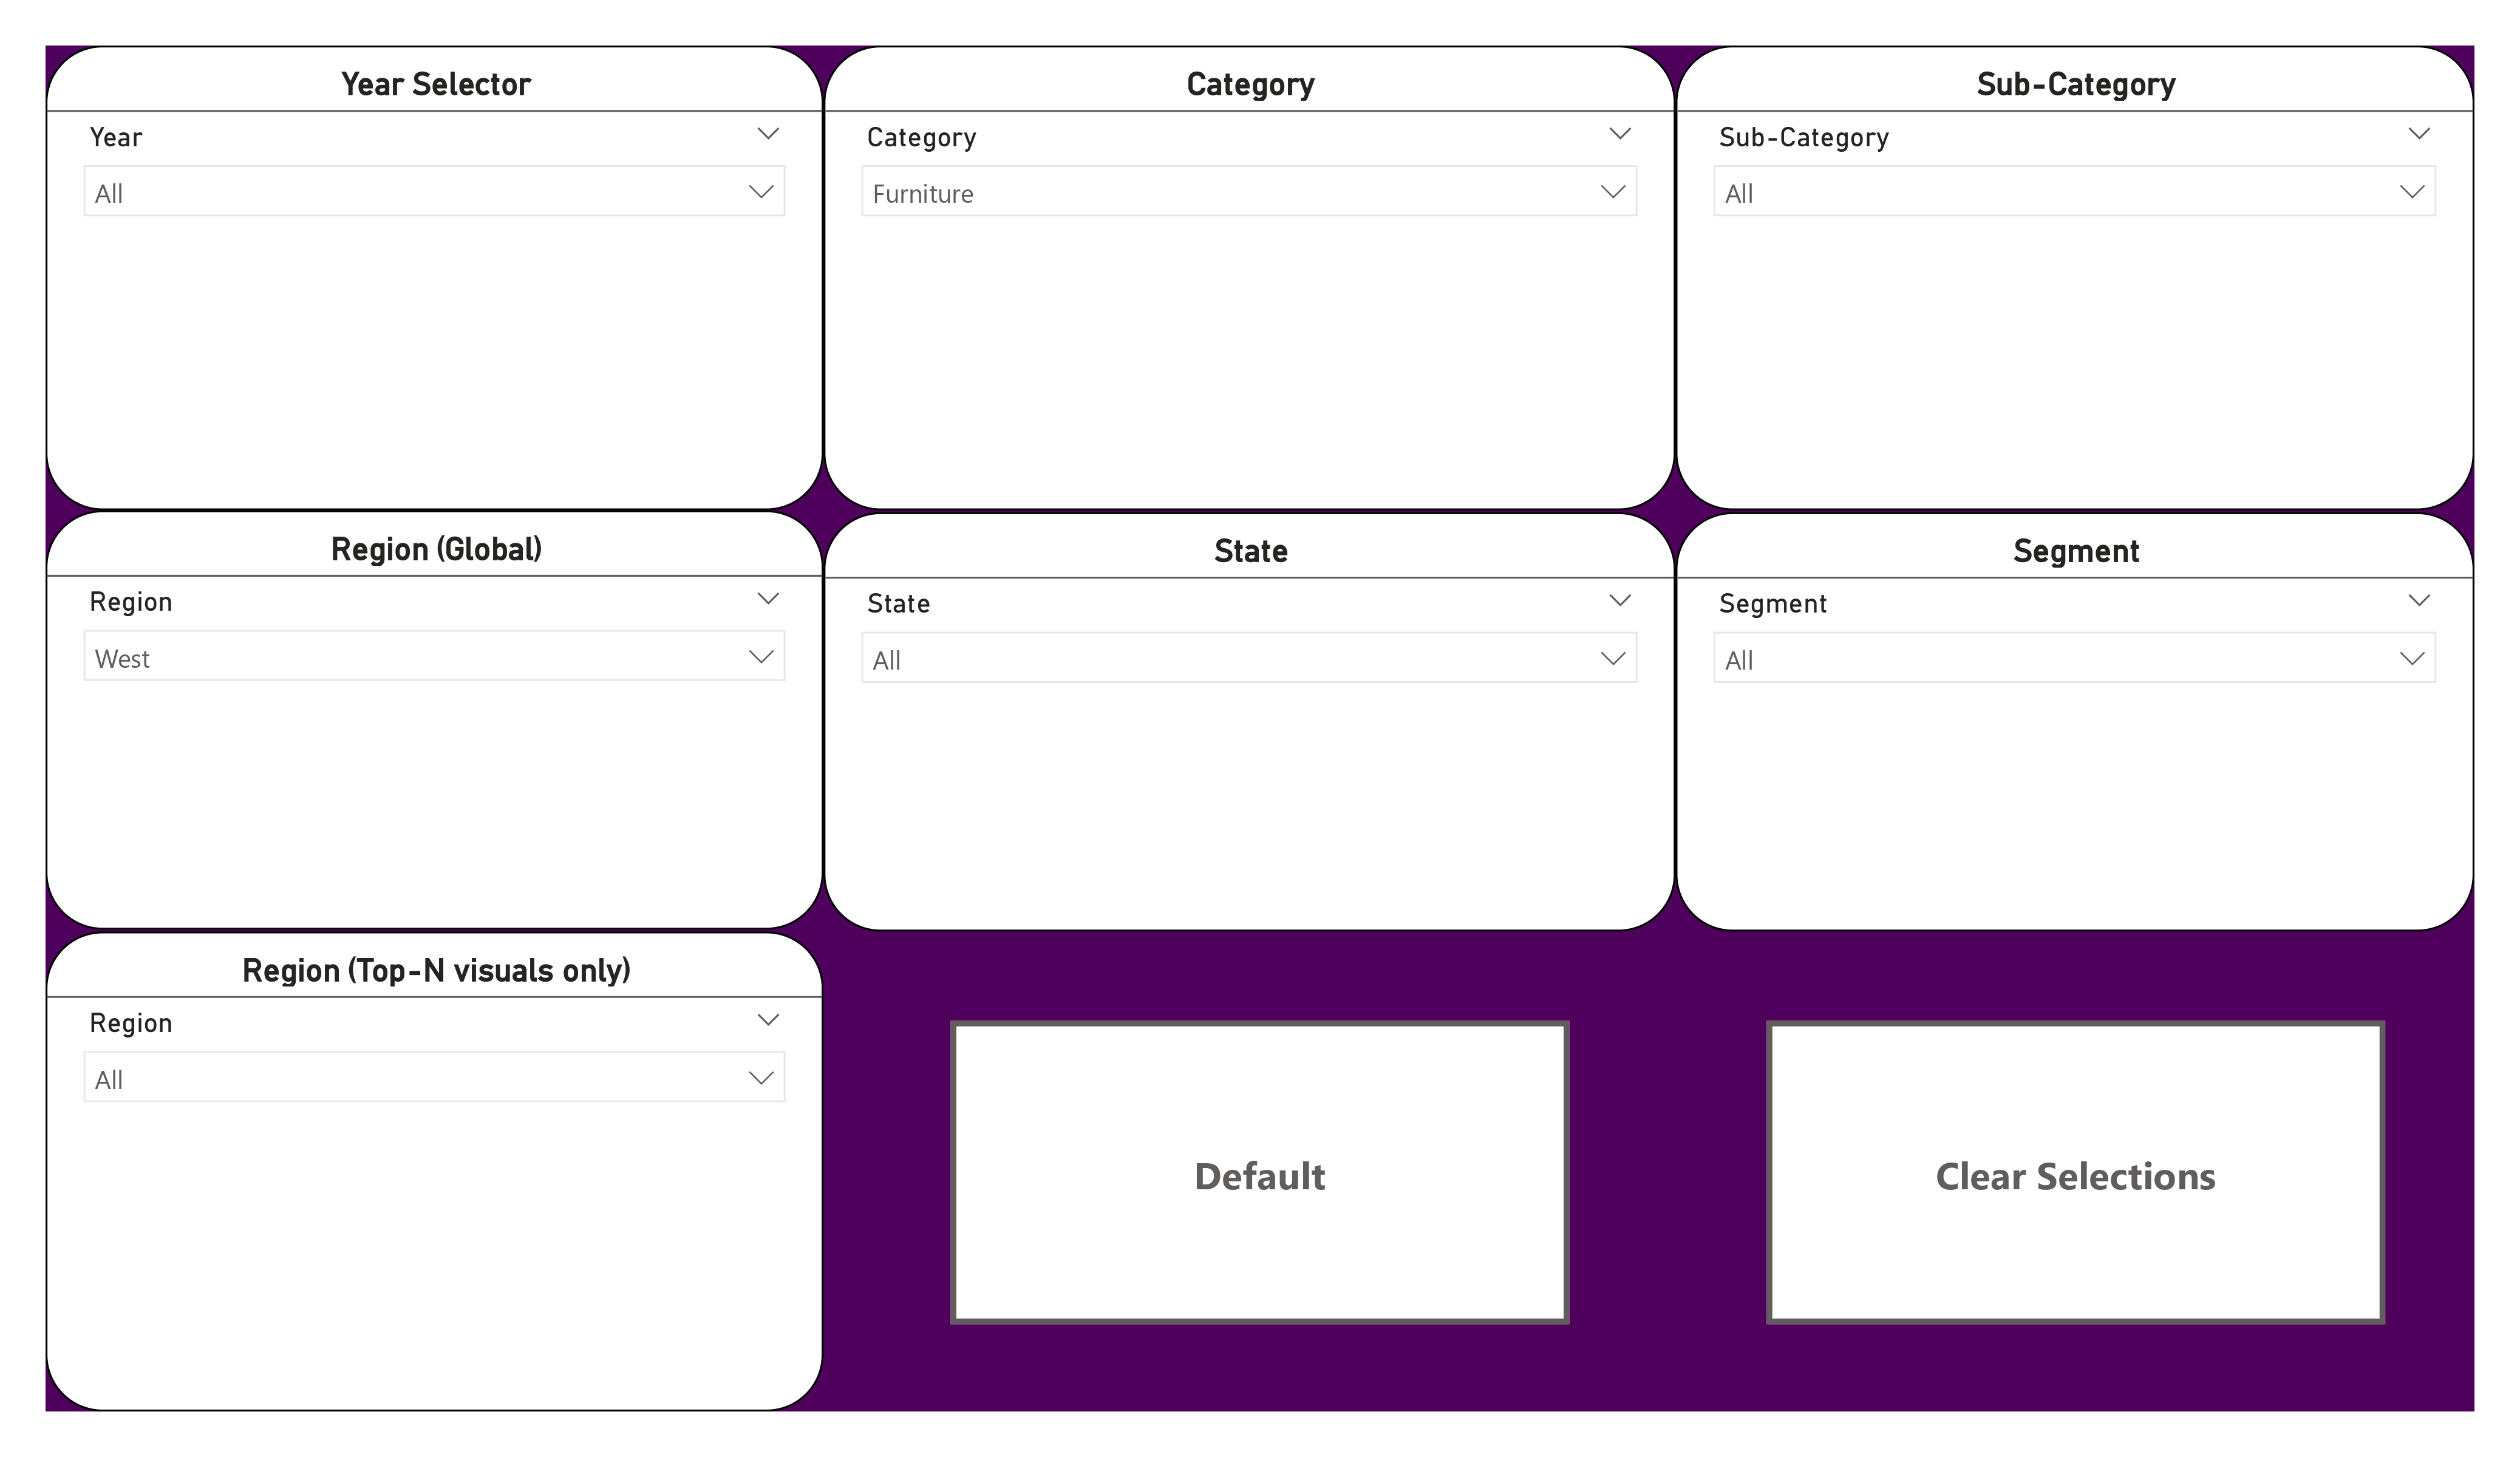

The page's visual inventory and layout, read from the dashboard file:
{"tool":"powerbi","page":{"name":"Slicers","canvas":[1280,720],"ordinal":11},"visuals":[{"type":"slicer","title":"Year Selector","fields":{"Values":["Date1.Year"]},"box":[0,0,410,245],"z":0},{"type":"slicer","title":"Category","fields":{"Values":["Append1.Category"]},"box":[410,0,448.8,245],"z":1000},{"type":"slicer","title":"Sub-Category","fields":{"Values":["Append1.Sub-Category"]},"box":[858.8,0,421.2,245],"z":2000},{"type":"slicer","title":"Region (Global)","fields":{"Values":["Append1.Region"]},"box":[0,245,410,221.2],"z":3000},{"type":"slicer","title":"State","fields":{"Values":["Append1.State"]},"box":[410,245.7,448.6,221.4],"z":4000},{"type":"slicer","title":"Segment","fields":{"Values":["Append1.Segment"]},"box":[858.6,245.7,421.4,221.4],"z":5000},{"type":"slicer","title":"Region (Top-N visuals only)","fields":{"Values":["Append1.Region"]},"box":[0,467.1,410,252.9],"z":6000},{"type":"actionButton","box":[477.1,514.3,325.7,160],"z":7000},{"type":"actionButton","box":[907.1,514.3,325.7,160],"z":8000}]}

Visuals, with their boxes in screenshot pixels (x1, y1, x2, y2):
"Year Selector" slicer: locate(52, 46, 820, 504)
"Category" slicer: locate(820, 46, 1661, 504)
"Sub-Category" slicer: locate(1661, 46, 2450, 504)
"Region (Global)" slicer: locate(52, 504, 820, 919)
"State" slicer: locate(820, 506, 1660, 920)
"Segment" slicer: locate(1660, 506, 2450, 920)
"Region (Top-N visuals only)" slicer: locate(52, 920, 820, 1394)
actionButton: locate(946, 1009, 1556, 1308)
actionButton: locate(1751, 1009, 2361, 1308)
